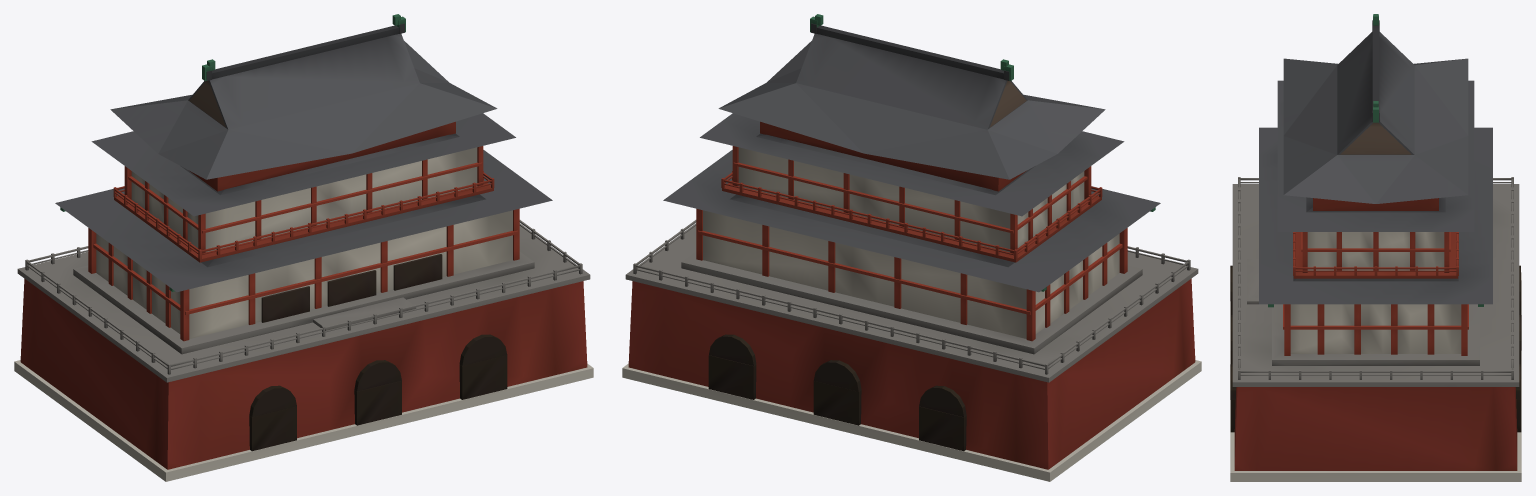
The model's file is drum-tower.glb.
3 renders of one model, left to right at view 1: azimuth 30°, elevation 25°; view 2: azimuth 150°, elevation 25°; view 3: azimuth 270°, elevation 25°, orthographic. The views are drawn at different scales.
Parts seen in each view (by area): view 1: p0_base, p2_roofs, p1_halls; view 2: p0_base, p2_roofs, p1_halls; view 3: p2_roofs, p0_base, p1_halls.
Boxes of the visible parts, x1,y1,x2,y2 form: p0_base: (14,220,593,481); p2_roofs: (55,14,552,292); p1_halls: (73,146,534,354); p0_base: (622,220,1201,481); p2_roofs: (663,14,1160,292); p1_halls: (681,146,1142,354); p2_roofs: (1259,14,1492,307); p0_base: (1230,177,1521,481); p1_halls: (1247,232,1479,365).
Bounding box in the file's own units: 57 × 42.75 × 35.
